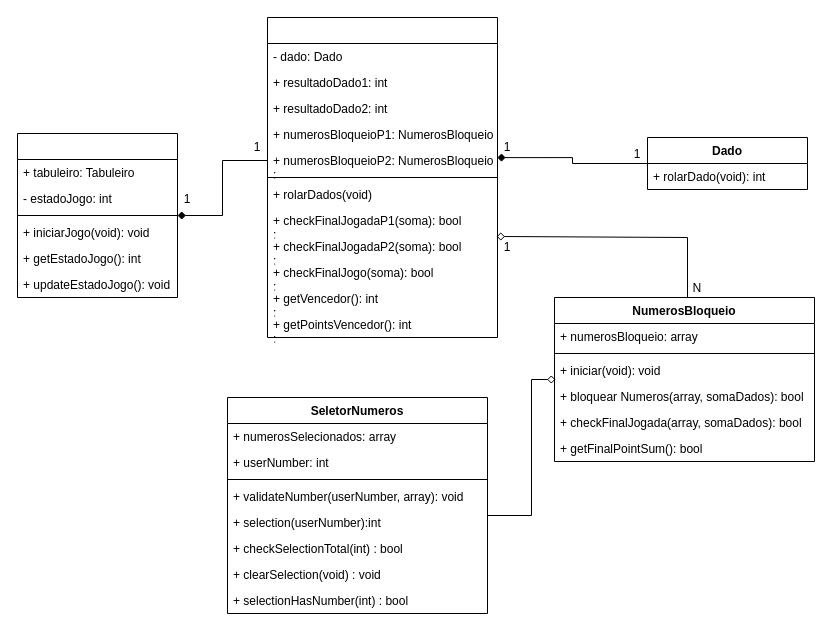
The diagram is 832 pixels wide and 634 high, and some of its shapes have lost their labels. The shapes that lost their labels are listed below. From the top down, each one's box as (x1, y1, x2, y2) in pixels, then its label:
(266, 16, 498, 338): Tabuleiro
(16, 132, 178, 298): GameEngine
